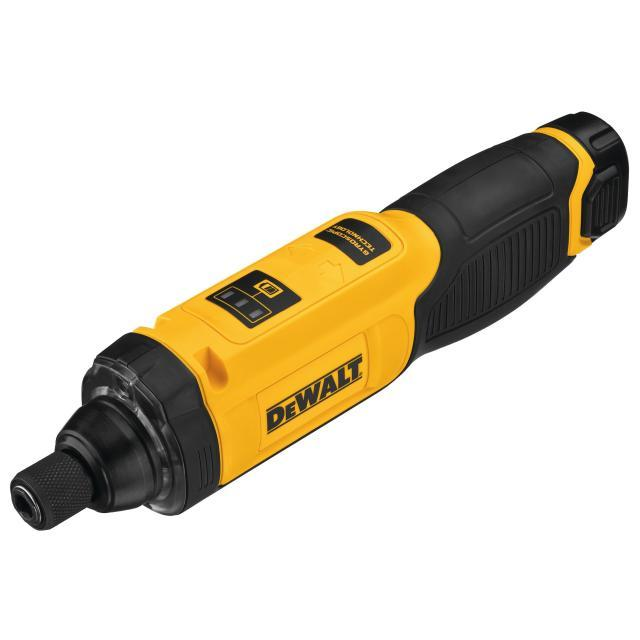screwdriver: (2, 106, 632, 551)
